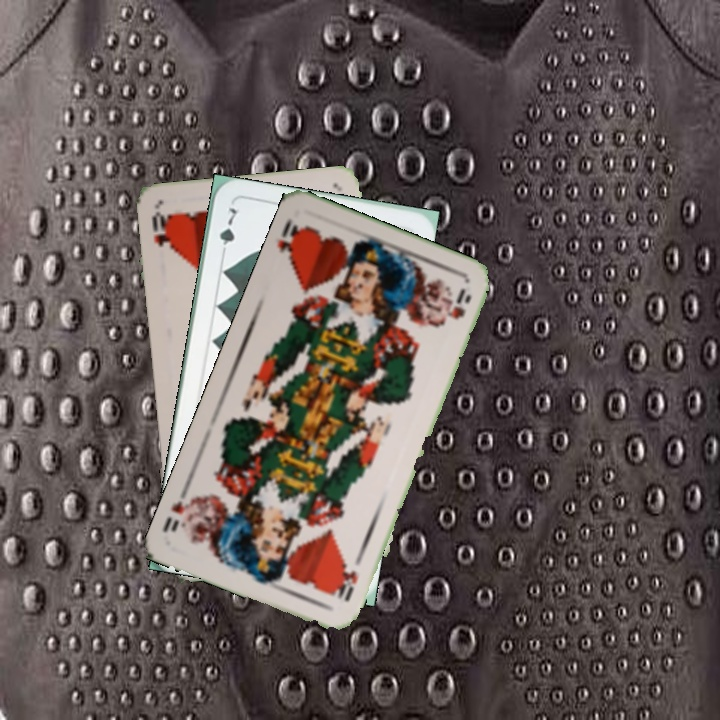G7: (215, 204, 240, 261)
HO: (273, 220, 308, 268), (330, 560, 361, 604), (147, 208, 172, 253)
